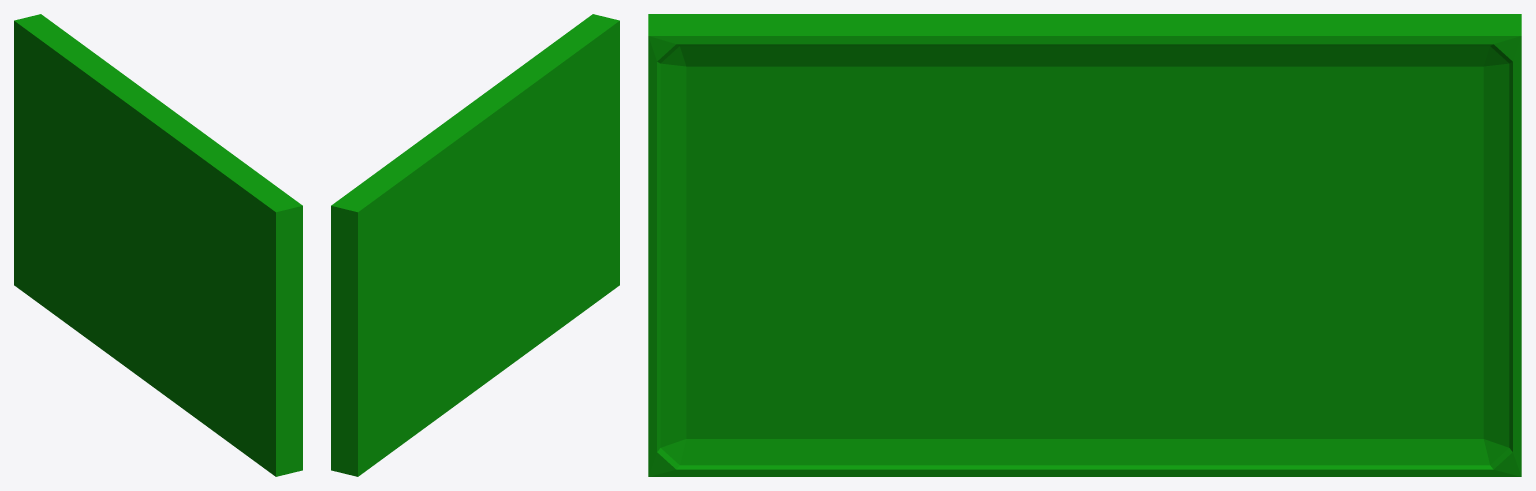
File: blackboard.fbx
3 renders of one model, left to right at view 1: azimuth 30°, elevation 25°; view 2: azimuth 150°, elevation 25°; view 3: azimuth 270°, elevation 25°, orthographic. The views are drawn at different scales.
Parts seen in each view (by area): view 1: Cube.002; view 2: Cube.002; view 3: Cube.002.
Boxes of the visible parts, box(x1,y1,x2,y2) form: Cube.002: box(14, 14, 302, 476); Cube.002: box(331, 14, 619, 476); Cube.002: box(648, 14, 1521, 476).
Bounding box in the file's own units: 21.32 × 196 × 351.
